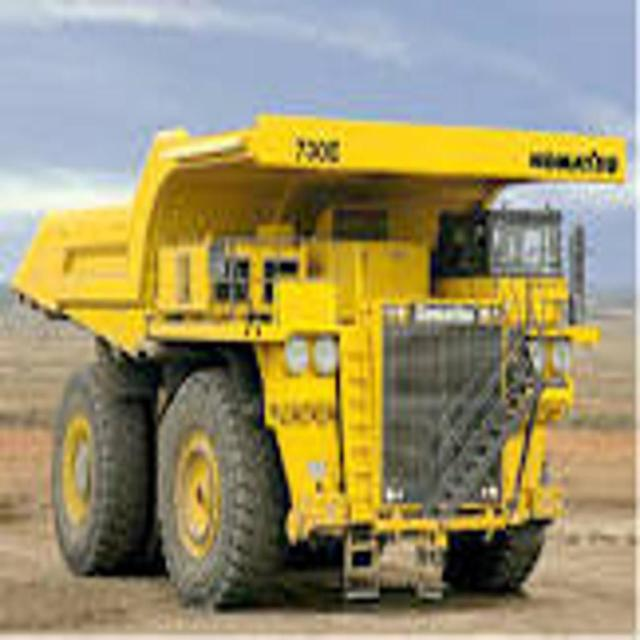dump_truck: (6, 93, 630, 612)
